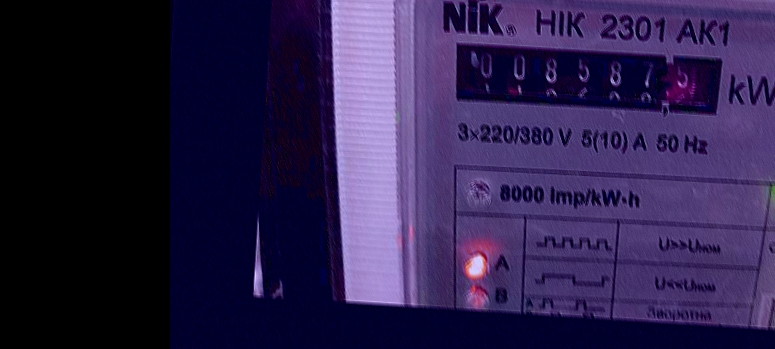0: (475, 49, 494, 79), (509, 52, 528, 81)
5: (673, 61, 692, 91), (573, 55, 592, 84)
7: (637, 58, 656, 89)
8: (605, 57, 624, 88), (541, 55, 559, 84)
screen: (433, 26, 740, 128)
